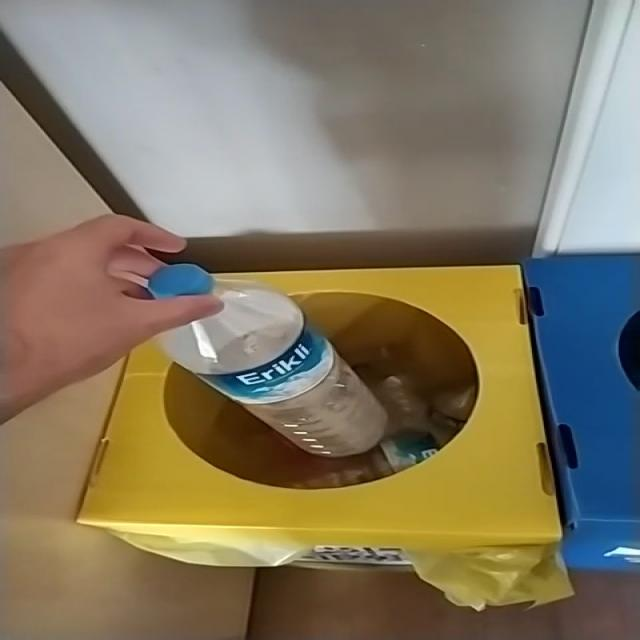plastic: (148, 265, 387, 457)
